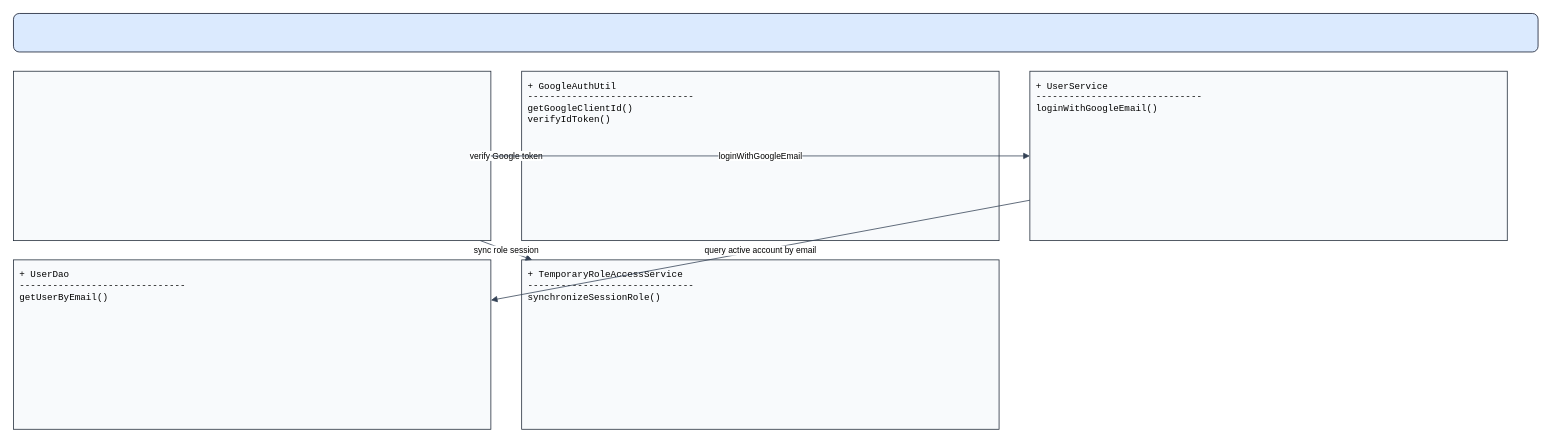
Image size: 1552x443. Some labels were removed from this diagram. The centre of each missing label's shape, as x and y in pixels:
"+ GoogleLoginServlet ------------------------------ doPost() redirectByRole()" goes at (x=252, y=155).
"Class Diagram - Login with Google" goes at (x=775, y=32).
